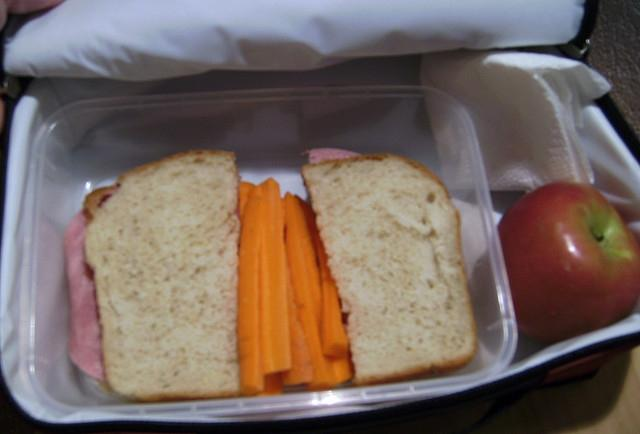apple: (496, 181, 638, 345)
carrot: (284, 189, 336, 391), (260, 178, 290, 376), (238, 185, 264, 397), (281, 265, 315, 386), (316, 233, 348, 361), (257, 372, 283, 396), (332, 358, 354, 384)
